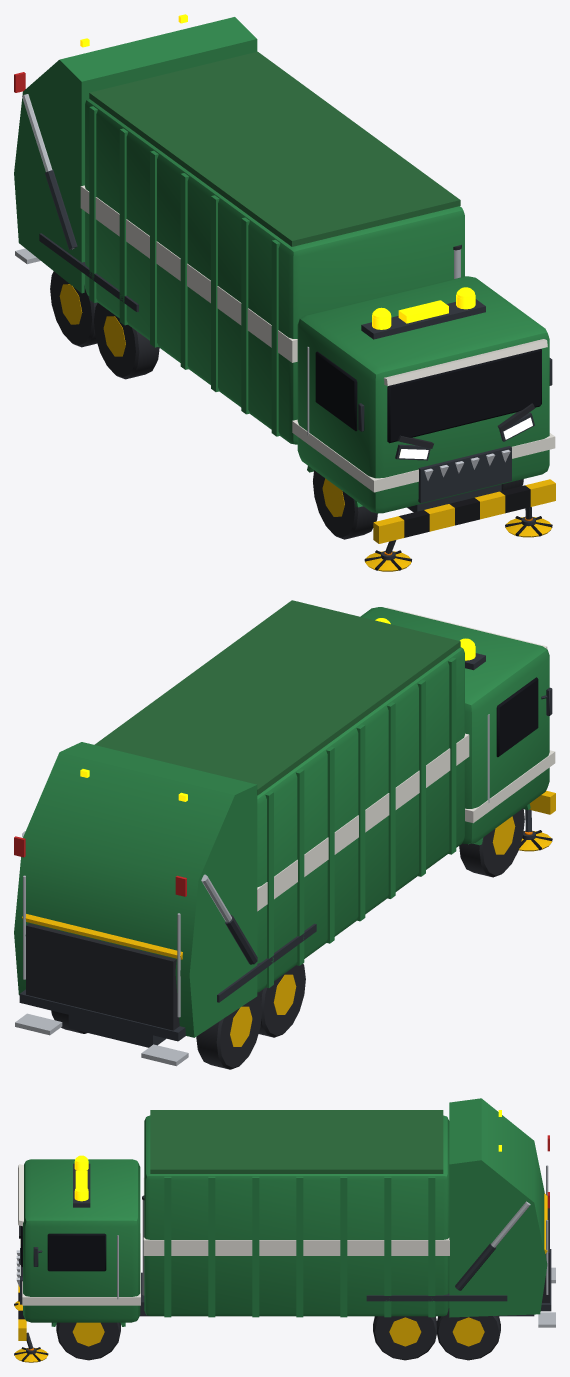
File: garbage_truck.glb
The picture shows the model from 3 angles, top to bottom: view 1: azimuth 30°, elevation 25°; view 2: azimuth 150°, elevation 25°; view 3: azimuth 270°, elevation 25°; orthographic projection. The views are drawn at different scales.
Parts seen in each view (by area): view 1: body, brush_r, brush_l; view 2: body; view 3: body, brush_r.
Boxes of the visible parts, bbox=[...] form: body: bbox=[14, 14, 555, 553]; brush_r: bbox=[505, 516, 552, 537]; brush_l: bbox=[364, 550, 411, 571]; body: bbox=[14, 600, 555, 1069]; body: bbox=[16, 1098, 555, 1360]; brush_r: bbox=[14, 1347, 48, 1362].
Bounding box in the file's own units: 273 × 381 × 924.
